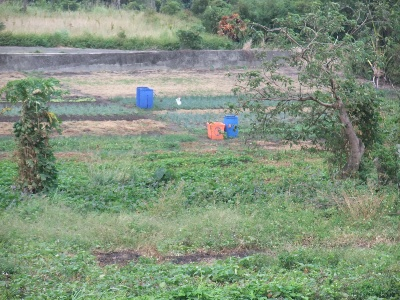box: (206, 120, 226, 141)
bucket: (139, 88, 155, 110), (226, 115, 240, 137)
